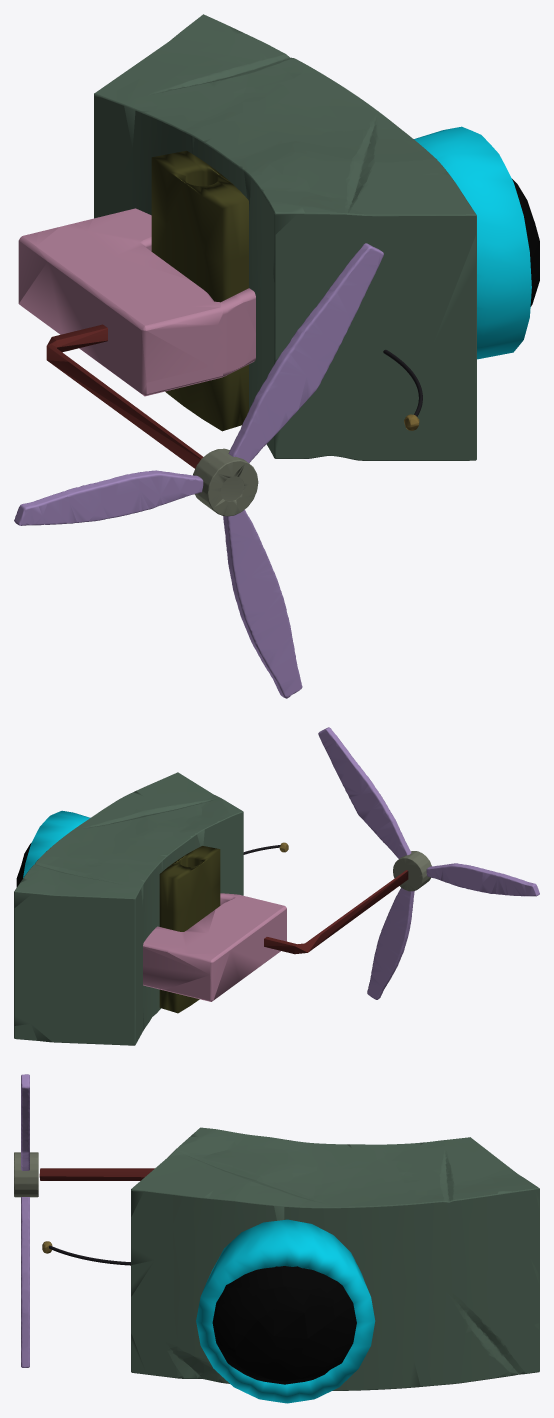
The model's file is dronewithanimation2.fbx.
The picture shows the model from 3 angles, top to bottom: view 1: azimuth 30°, elevation 25°; view 2: azimuth 150°, elevation 25°; view 3: azimuth 270°, elevation 25°; orthographic projection. The views are drawn at different scales.
Visible parts, largest first — view 1: dronebody_high, back1_high, propeller, back2_high, eye_high, propholder_high, prophead_high, lens_high; view 2: dronebody_high, back1_high, propeller, back2_high, propholder_high, eye_high, prophead_high; view 3: dronebody_high, lens_high, eye_high, propeller, propholder_high, prophead_high.
Part boxes in pixels (<box>): dronebody_high: <box>94,14,476,460</box>; back1_high: <box>18,208,255,396</box>; propeller: <box>14,243,383,698</box>; back2_high: <box>151,150,248,431</box>; eye_high: <box>414,126,531,359</box>; propholder_high: <box>46,324,202,468</box>; prophead_high: <box>193,448,258,516</box>; lens_high: <box>512,179,539,306</box>; dronebody_high: <box>14,772,243,1045</box>; back1_high: <box>143,893,286,1001</box>; propeller: <box>318,727,539,999</box>; back2_high: <box>159,846,220,1013</box>; propholder_high: <box>264,870,408,954</box>; eye_high: <box>23,810,90,877</box>; prophead_high: <box>393,851,431,891</box>; dronebody_high: <box>131,1127,539,1390</box>; lens_high: <box>212,1266,356,1384</box>; eye_high: <box>196,1219,375,1403</box>; propeller: <box>21,1074,29,1367</box>; propholder_high: <box>39,1168,154,1180</box>; prophead_high: <box>14,1152,38,1197</box>.
Bounding box in the file's own units: 118 × 71.4 × 105.
